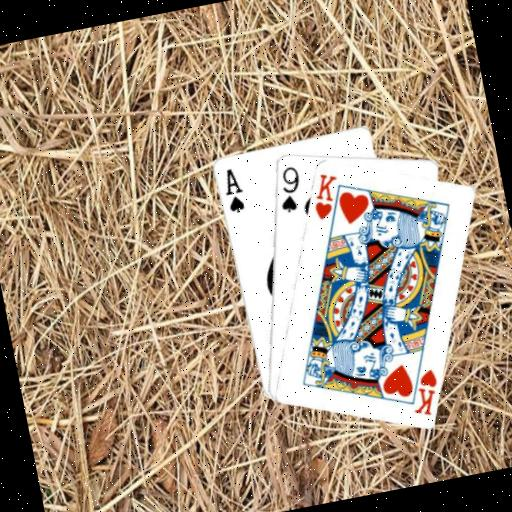9S: (271, 161, 307, 216)
AS: (217, 164, 248, 216)
KH: (305, 167, 346, 222), (403, 365, 444, 419)
